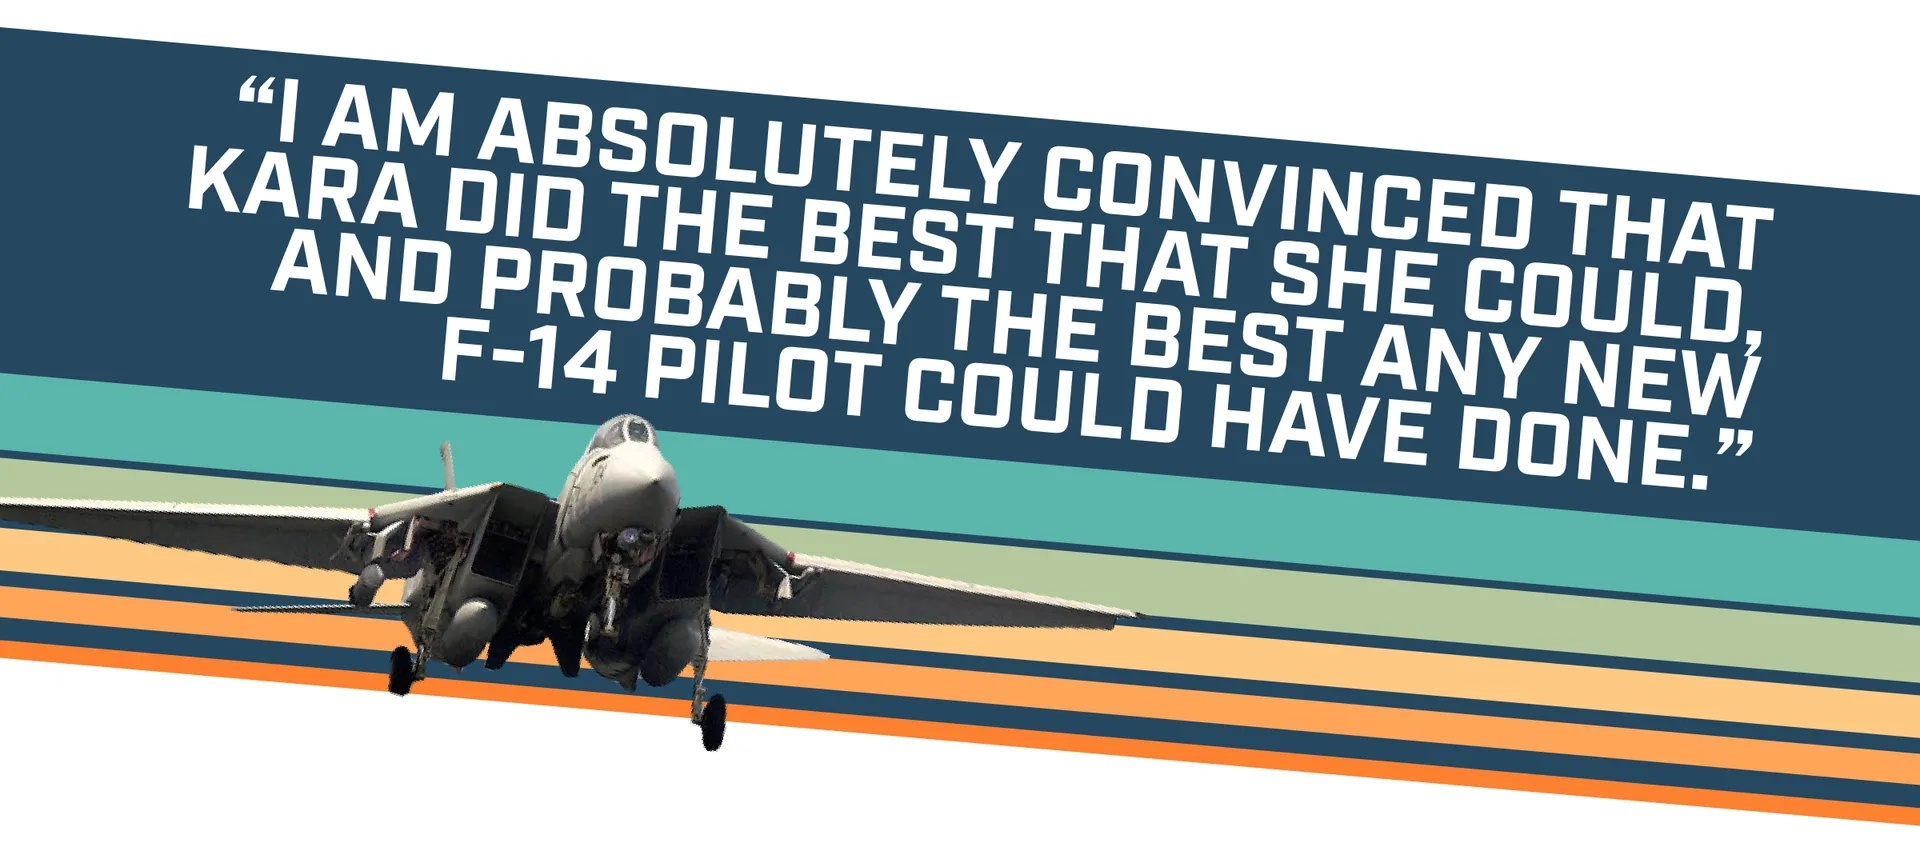F14: (1, 411, 1156, 751)
